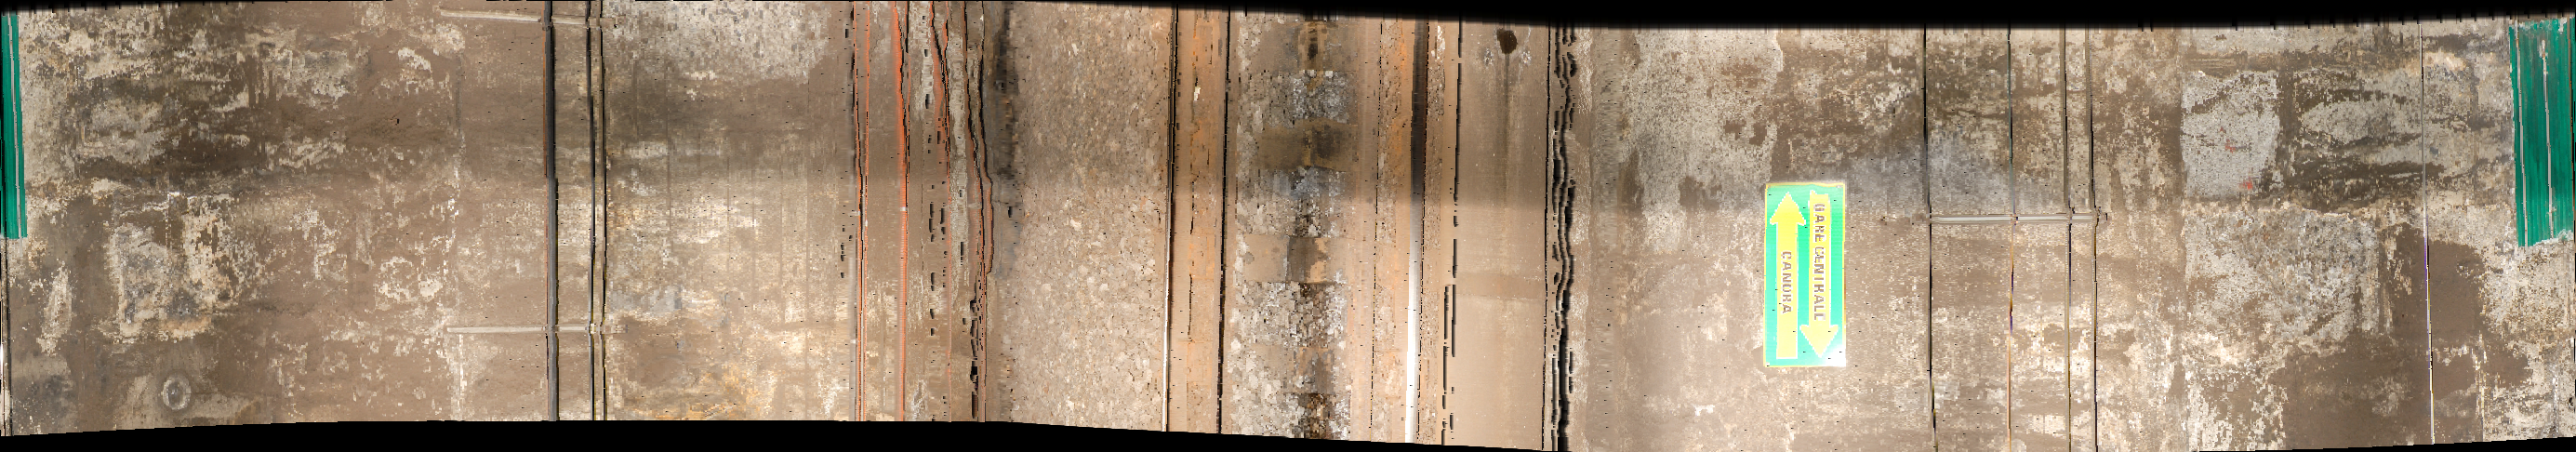green cables: (2500, 20, 2573, 250), (2, 2, 30, 237)
pipes: (844, 3, 997, 452), (540, 5, 618, 427), (2058, 26, 2106, 452), (1907, 18, 1945, 452), (2001, 20, 2029, 452)
sign: (1759, 181, 1847, 373)
tracks: (1171, 12, 1459, 452)
